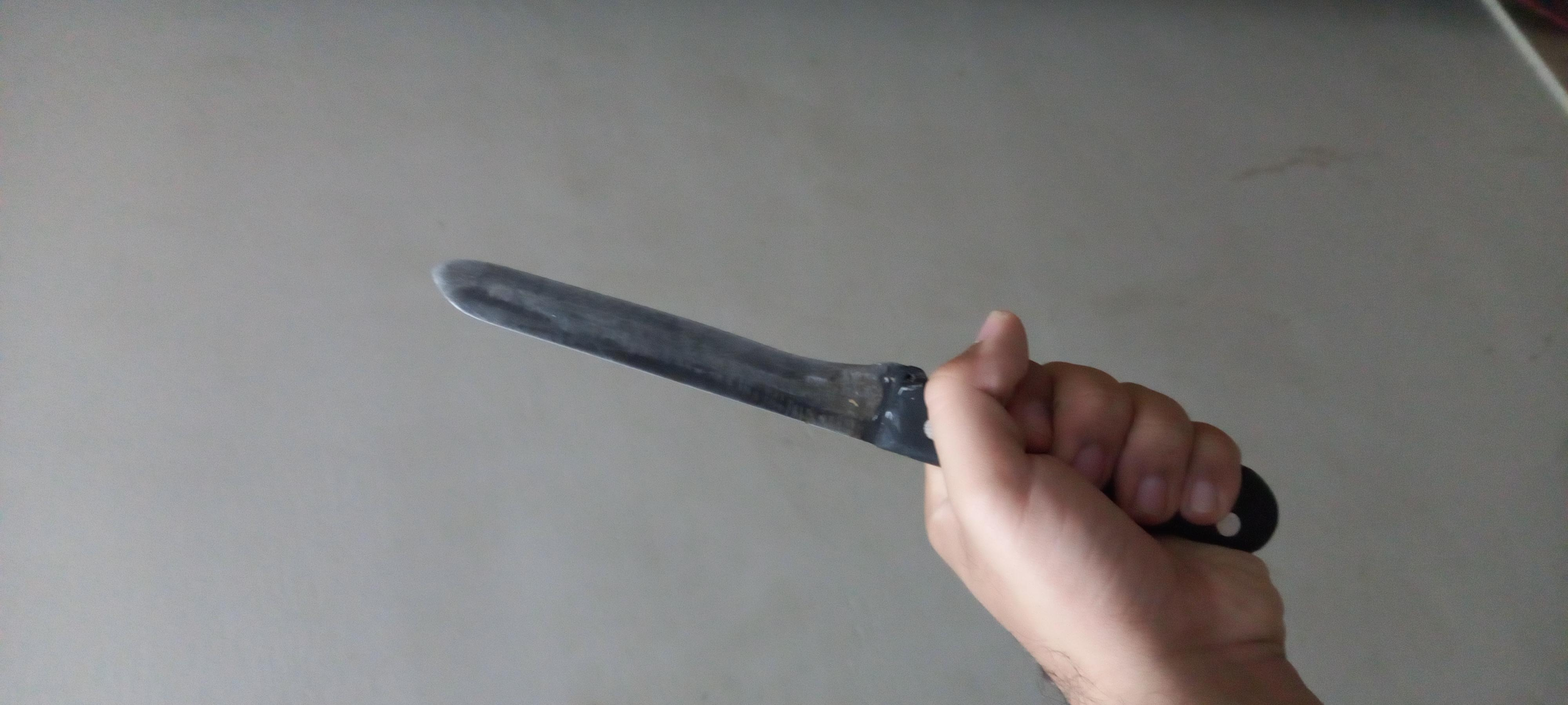knives: (348, 189, 1053, 573)
